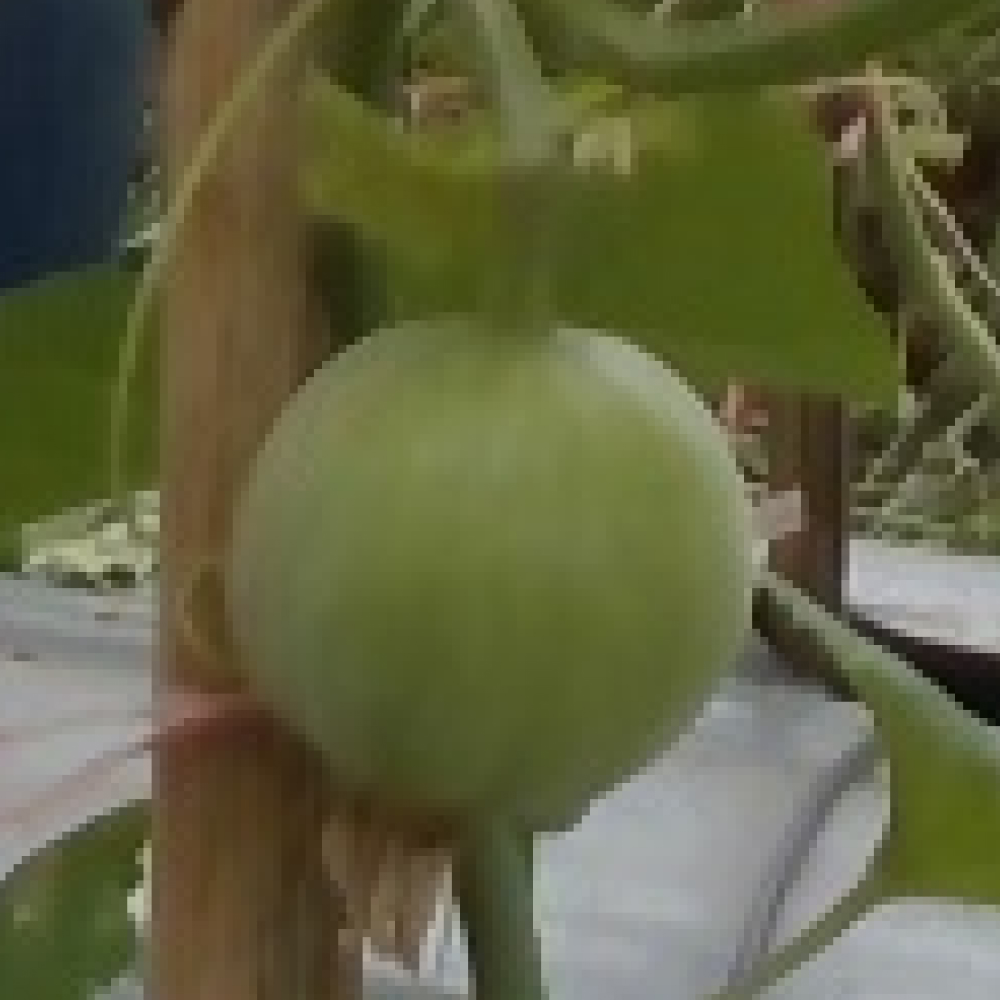melon: (211, 308, 760, 835)
